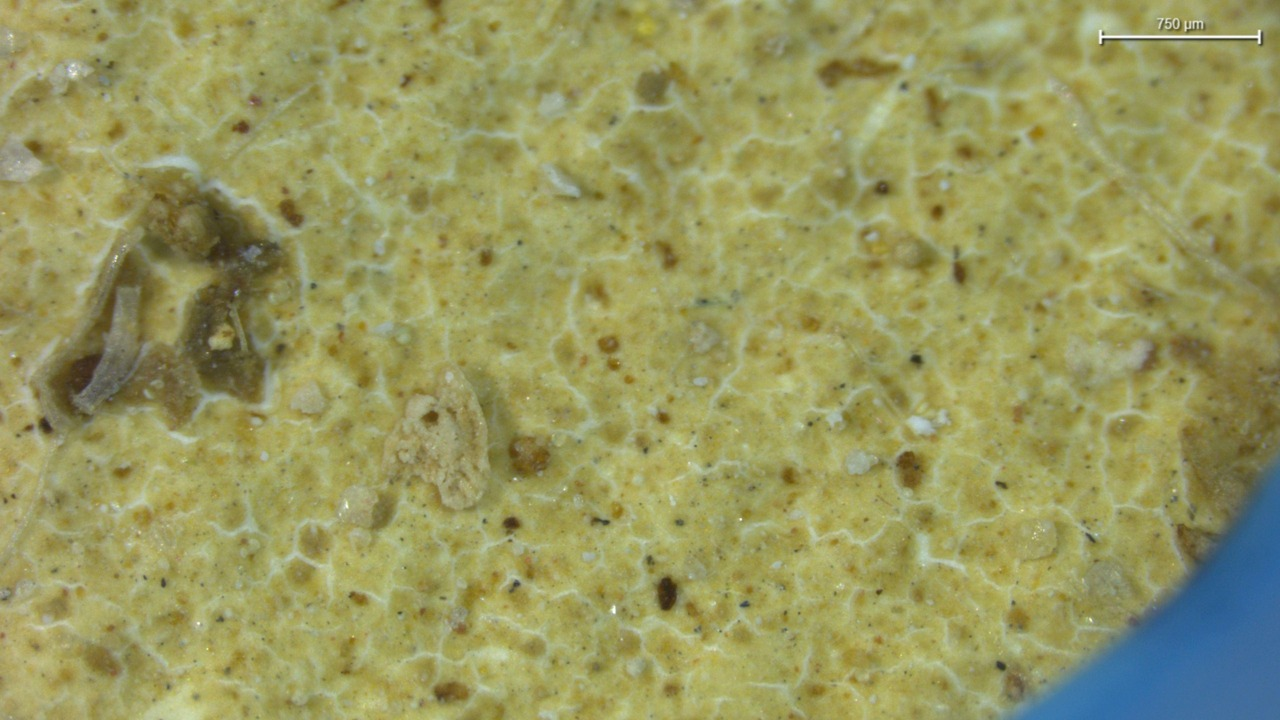microplastic_fragment: (383, 366, 489, 509), (337, 485, 378, 528)
